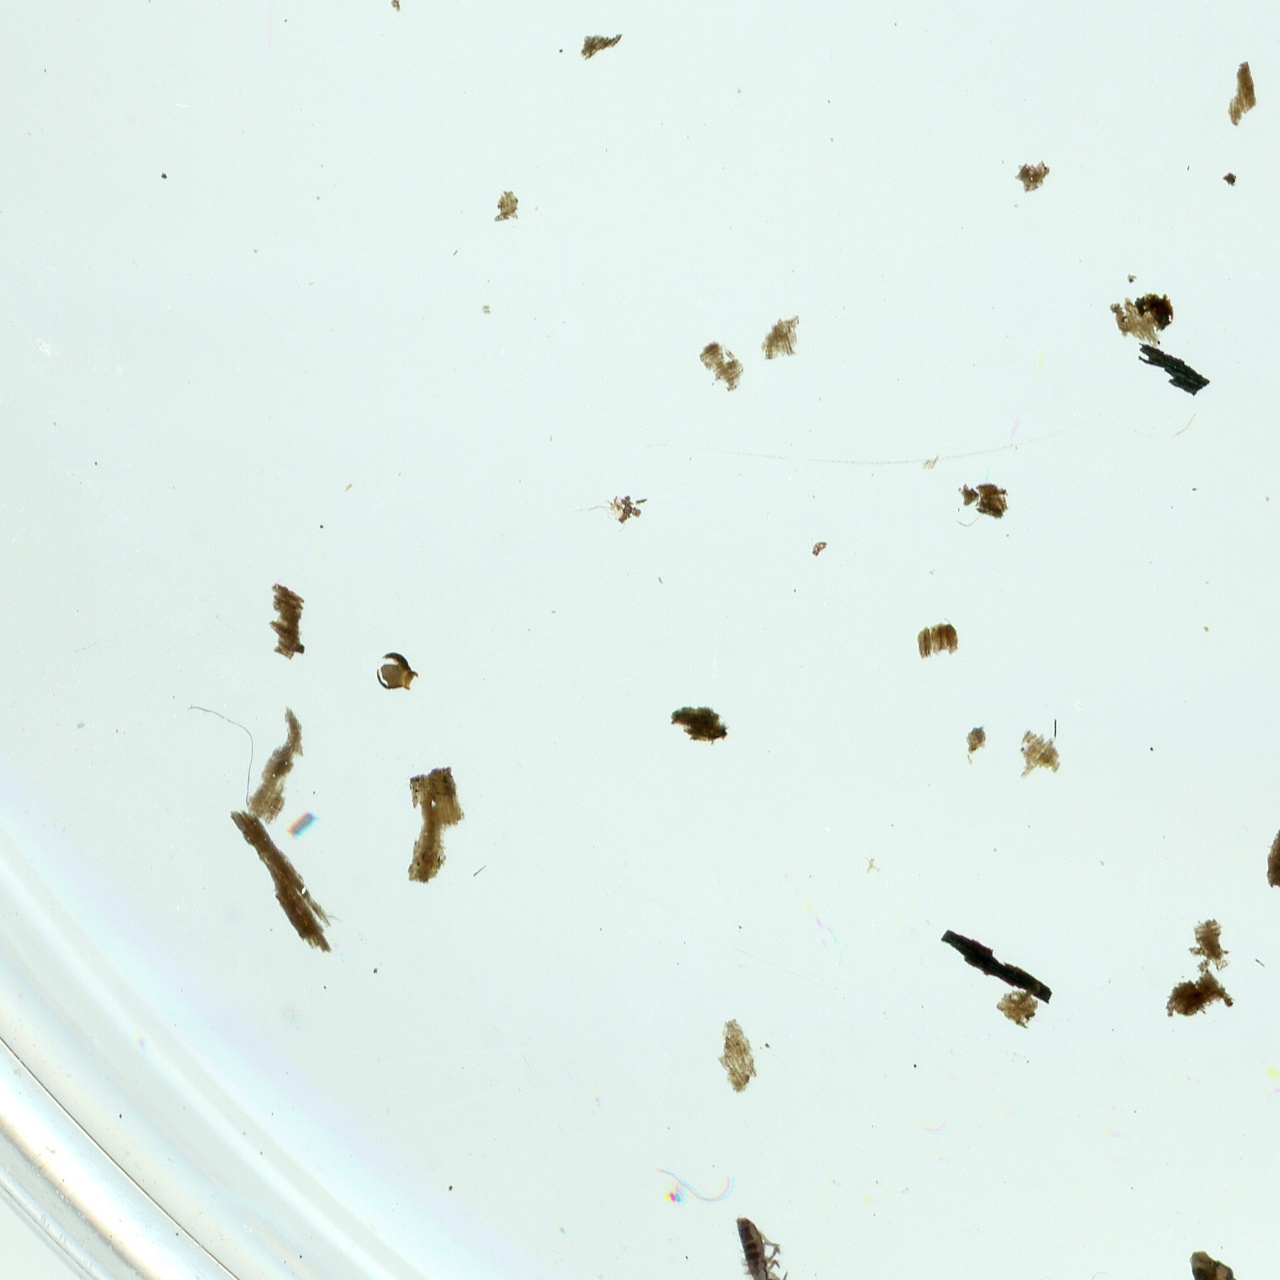arthropod: (702, 1187, 830, 1280), (282, 804, 321, 845)
